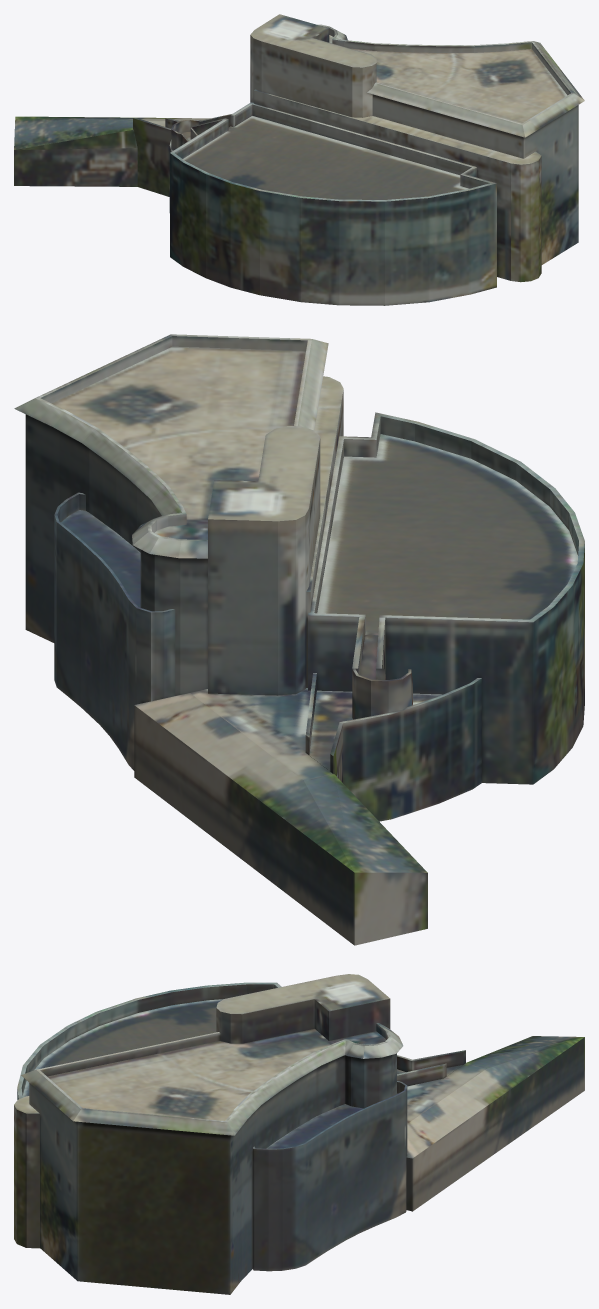
3 views of the same model, one above another, from view 1: azimuth 30°, elevation 25°; view 2: azimuth 150°, elevation 25°; view 3: azimuth 270°, elevation 25° (orthographic). The views are drawn at different scales.
Parts seen in each view (by area): view 1: 11_0.glb_1; view 2: 11_0.glb_1; view 3: 11_0.glb_1.
Part boxes in pixels (x1=…): 11_0.glb_1: x1=14, y1=14, x2=584, y2=305; 11_0.glb_1: x1=14, y1=334, x2=584, y2=945; 11_0.glb_1: x1=14, y1=974, x2=584, y2=1294.
Size of the model in its own units: 36.5 by 14.78 by 39.85.
1 material, 1 textured.
